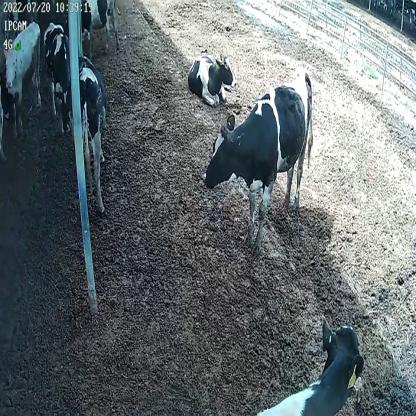cow: (202, 68, 316, 250), (67, 54, 107, 215), (2, 21, 47, 134), (42, 19, 73, 140), (184, 46, 237, 106)
